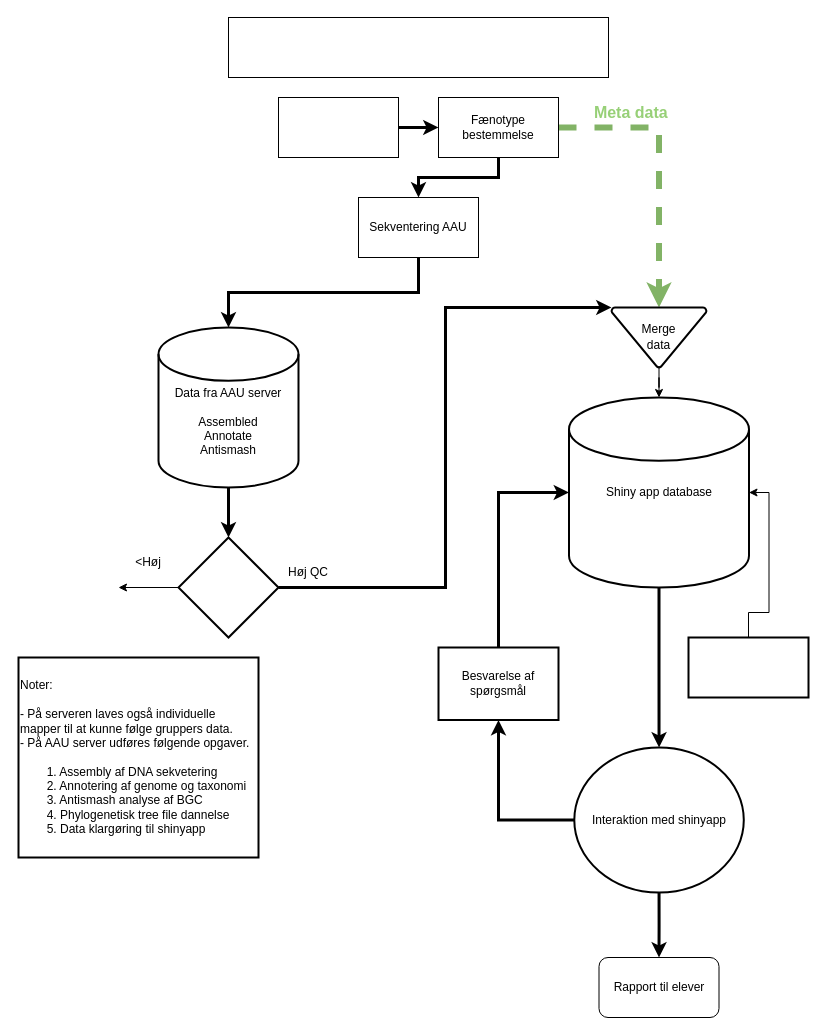
The diagram is 826 pixels wide and 1035 high, and some of its shapes have lost their labels. Each missing label, with the box of its shape:
Excel file til ændring af spørgsmål: (687, 636, 809, 698)
Genome Quality: (177, 536, 279, 638)
Prøve tagning: (278, 96, 398, 158)
Tiny earth forsøg: (228, 16, 608, 78)
